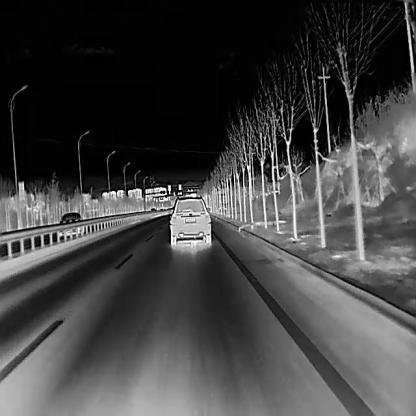car: (169, 193, 211, 247), (57, 210, 83, 239)
